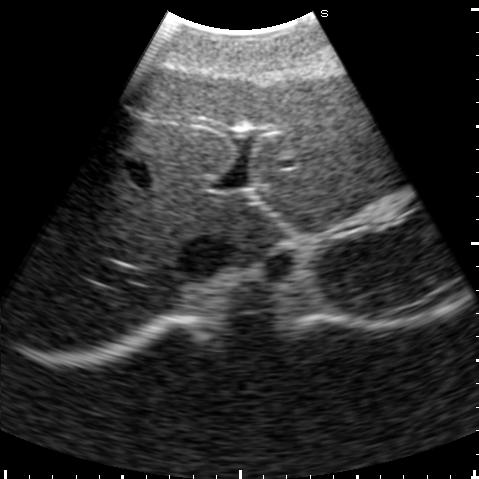IVC: (177, 232, 238, 279)
S1: (233, 198, 282, 258)
S2: (255, 167, 409, 234)
S3: (240, 69, 399, 197)
